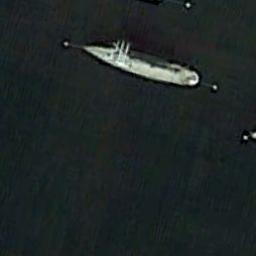boat: (80, 42, 198, 87)
